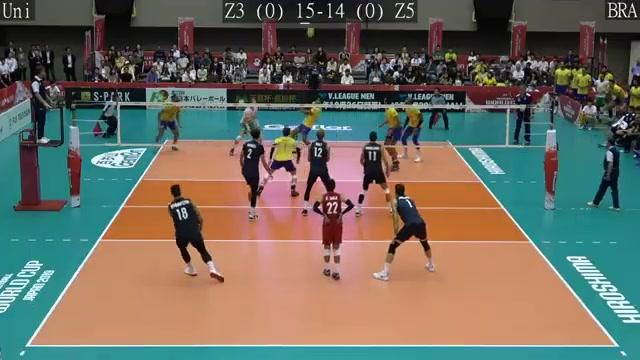ball: (308, 25, 317, 39)
